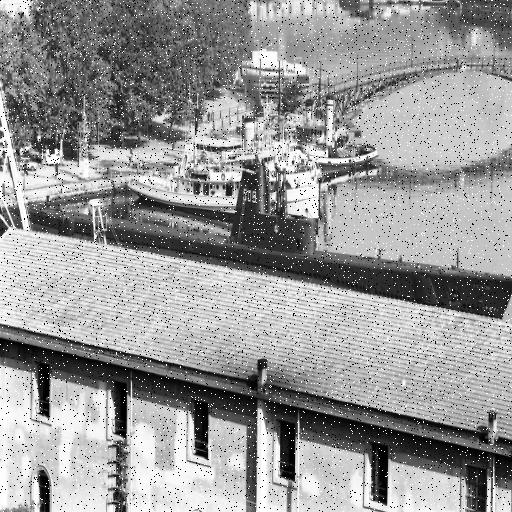submarine: (15, 160, 510, 332)
